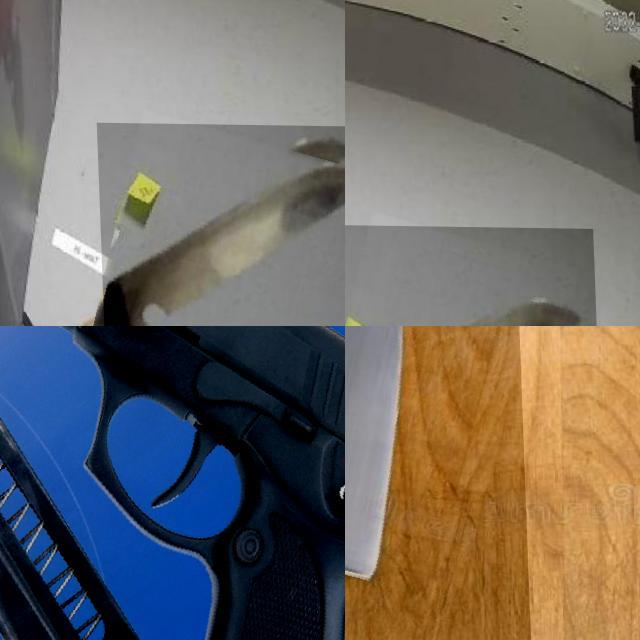-: (345, 326, 528, 640), (94, 122, 345, 326), (345, 224, 598, 326)
gun-knife-thesis - v11 Yolov5 augmented: (0, 326, 345, 640)
